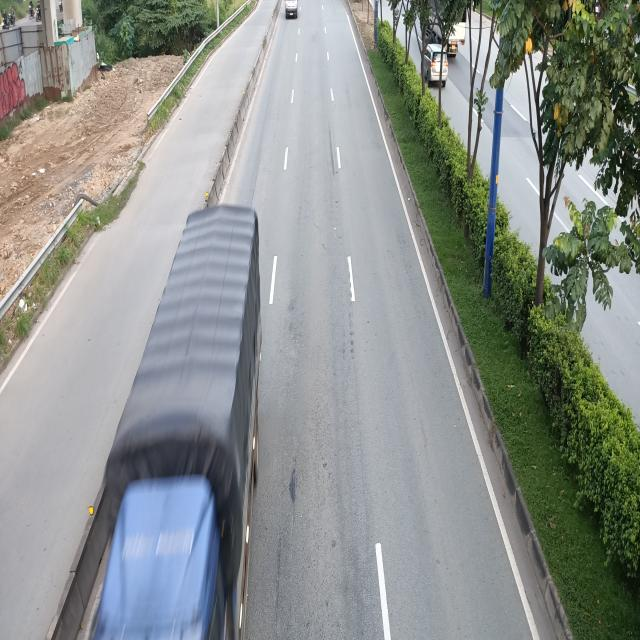truck: (83, 202, 261, 640)
